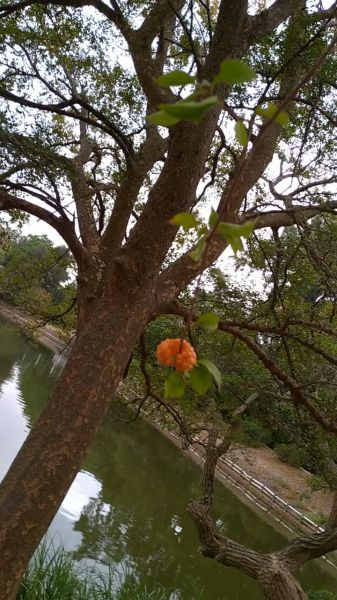eggs: (151, 332, 203, 381)
